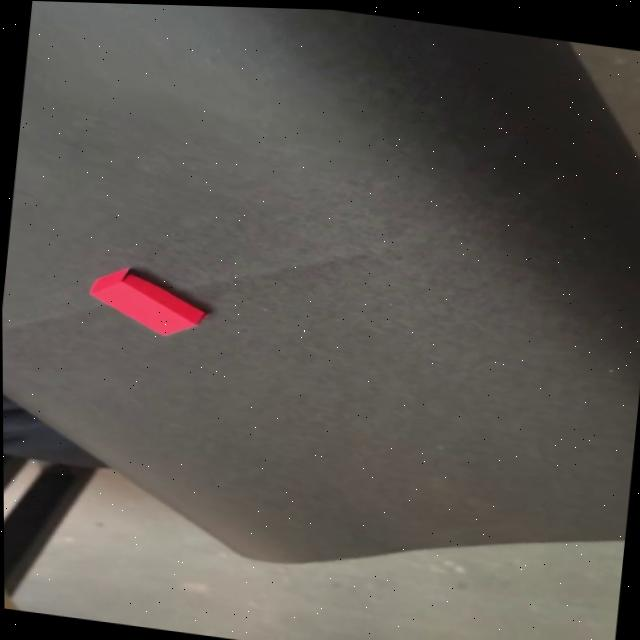red block: (85, 263, 214, 343)
